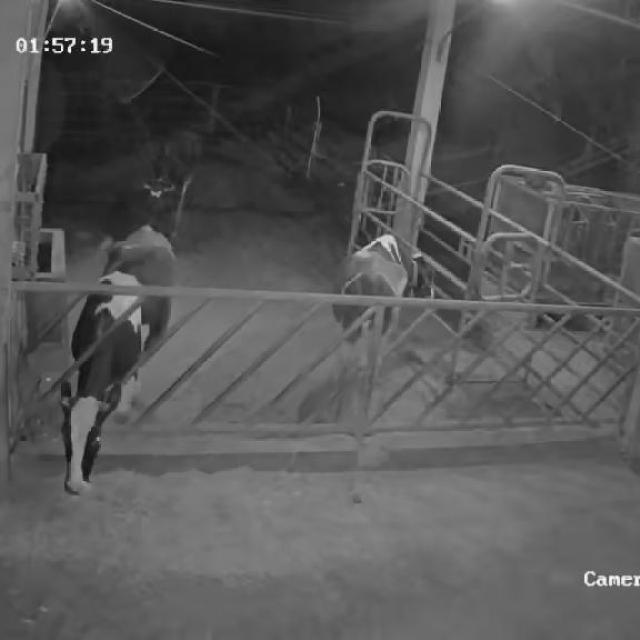feeding: (56, 218, 184, 500)
standing: (329, 228, 435, 430)
